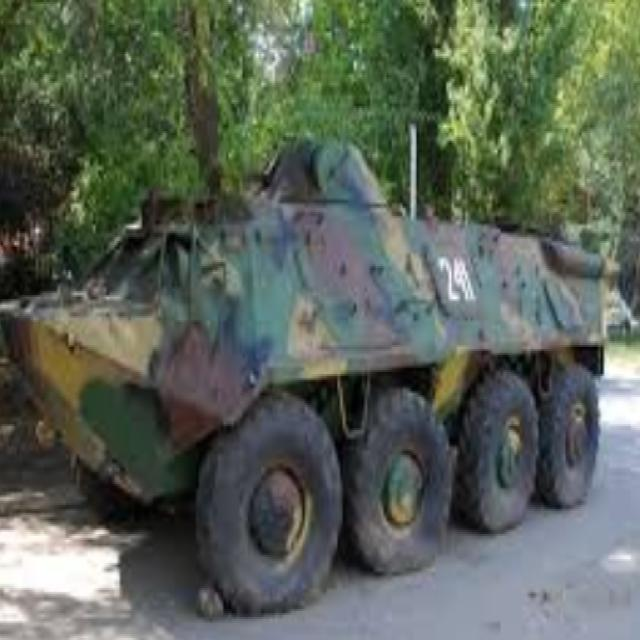MIL_APC: (6, 126, 617, 617)
